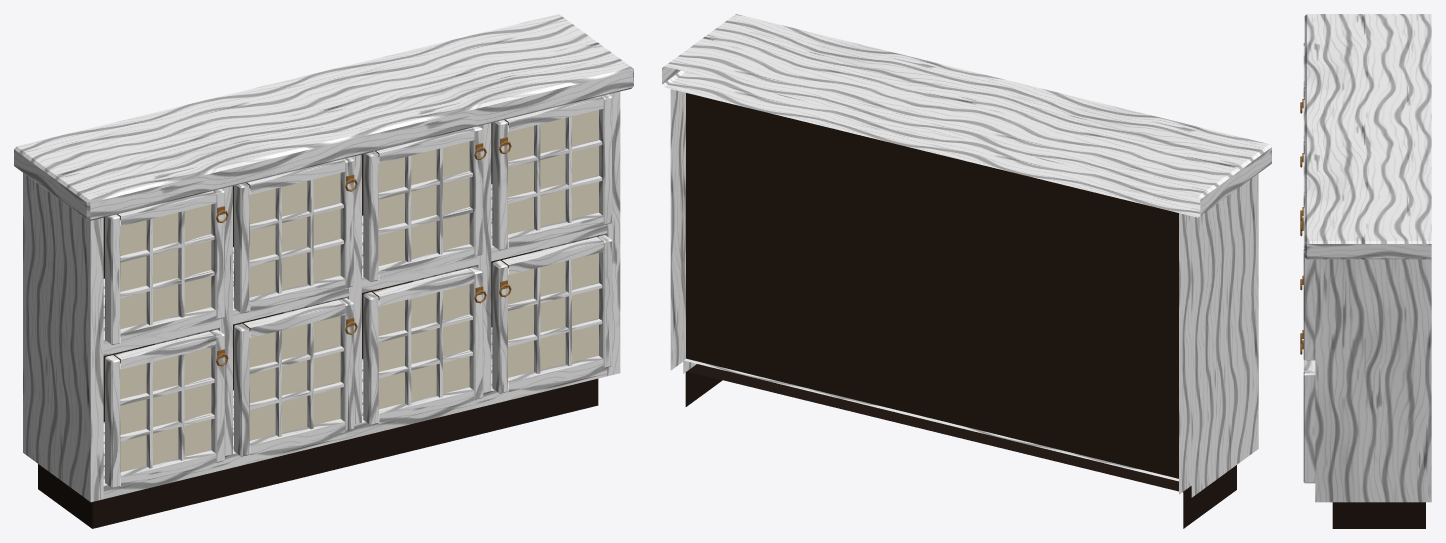
The model's file is shoecab.glb.
The picture shows the model from 3 angles, left to right: view 1: azimuth 30°, elevation 25°; view 2: azimuth 150°, elevation 25°; view 3: azimuth 270°, elevation 25°; orthographic projection. The views are drawn at different scales.
Visible parts, largest first — view 1: ShoeCab, ShoeDoorL2, ShoeDoorR3, ShoeDoorL1, ShoeDoorL0, ShoeDoorL6, ShoeDoorR7, ShoeDoorL5, ShoeDoorL4; view 2: ShoeCab; view 3: ShoeCab, ShoeDoorR3, ShoeDoorR7.
Part boxes in pixels (x1,y1,x2,y2): ShoeCab: (14, 14, 633, 528); ShoeDoorL2: (363, 266, 486, 425); ShoeDoorR3: (492, 235, 612, 393); ShoeDoorL1: (234, 298, 357, 456); ShoeDoorL0: (105, 329, 228, 488); ShoeDoorL6: (363, 126, 486, 281); ShoeDoorR7: (492, 94, 612, 250); ShoeDoorL5: (234, 157, 357, 313); ShoeDoorL4: (105, 189, 228, 344); ShoeCab: (662, 14, 1271, 528); ShoeCab: (1304, 14, 1431, 528); ShoeDoorR3: (1300, 340, 1315, 483); ShoeDoorR7: (1300, 205, 1315, 360).
Size of the model in its own units: 0.93 by 0.56 by 0.2258.
Materials: 7 (3 with a texture image).
